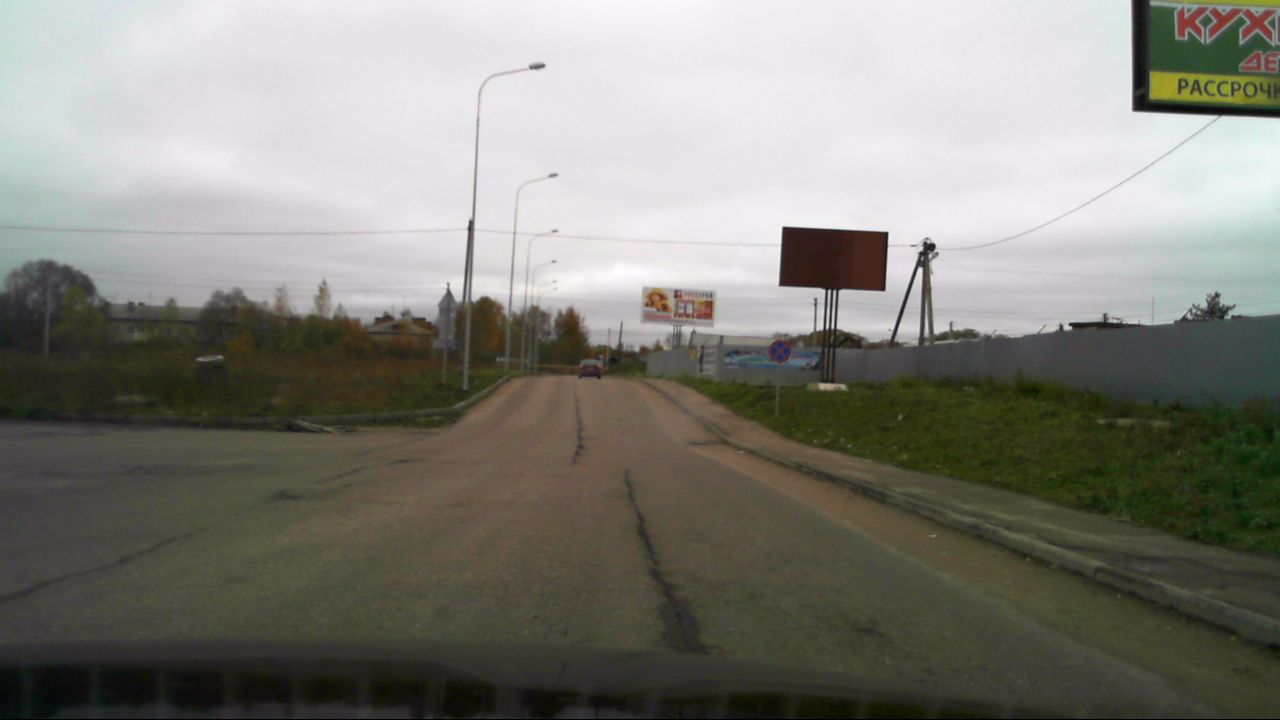No Parking: (767, 340, 791, 364)
